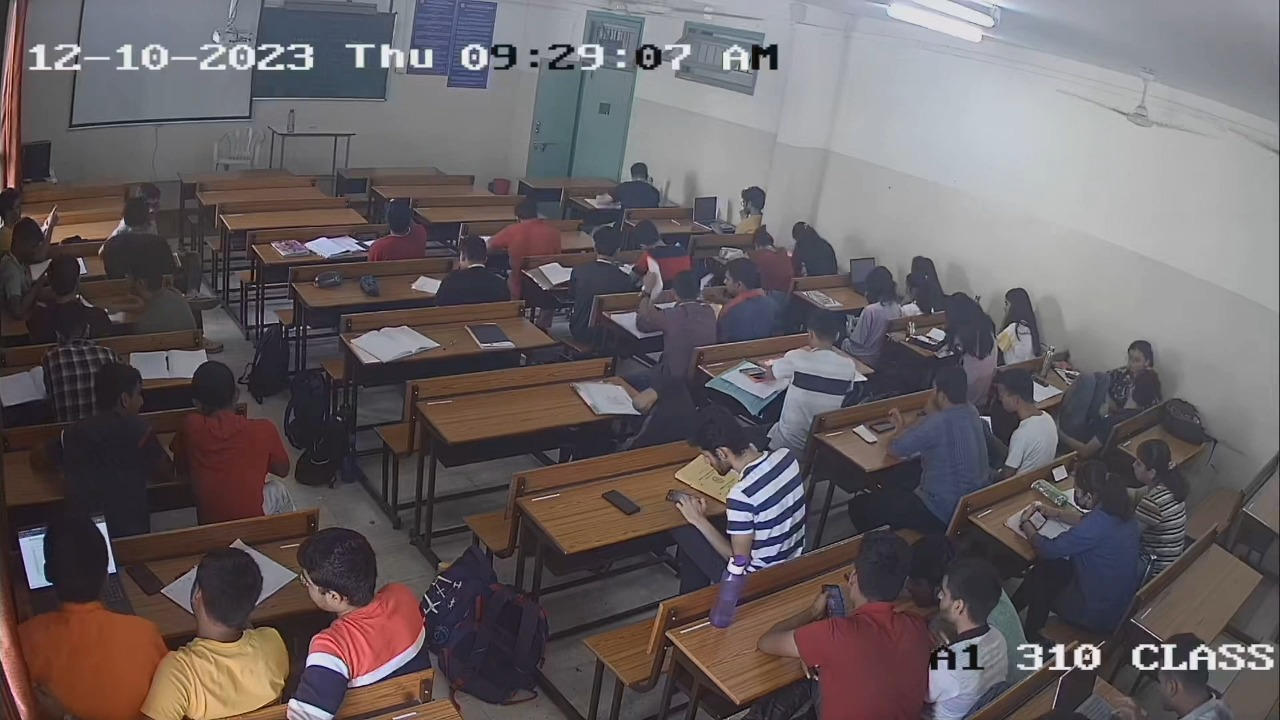cell-phones: (124, 560, 166, 597), (665, 488, 708, 514), (601, 490, 642, 517), (820, 582, 847, 621), (1028, 508, 1047, 531), (870, 419, 897, 434), (1051, 463, 1069, 484), (1031, 374, 1050, 388)
person: (798, 530, 933, 720), (142, 544, 292, 707), (686, 407, 806, 557), (1041, 459, 1143, 627), (895, 364, 992, 523), (1125, 437, 1188, 572), (1110, 340, 1163, 414)
